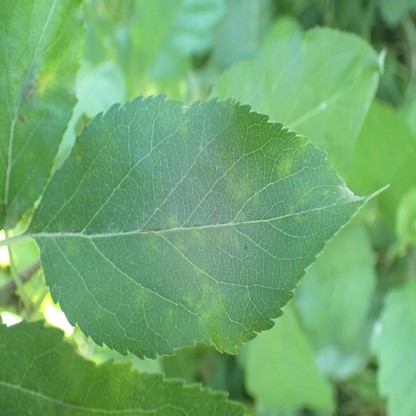powdery_mildew: (339, 177, 362, 200)
scab: (184, 284, 224, 341), (17, 61, 39, 123), (227, 172, 251, 202), (139, 232, 156, 256), (207, 224, 222, 250), (134, 288, 151, 307), (298, 183, 315, 202), (161, 306, 175, 329), (189, 228, 204, 249), (71, 142, 83, 166), (288, 204, 302, 224), (169, 234, 184, 252), (64, 239, 80, 255), (276, 158, 290, 175), (166, 214, 179, 230), (178, 117, 189, 132), (94, 310, 105, 321), (236, 211, 246, 222), (231, 236, 240, 248)
